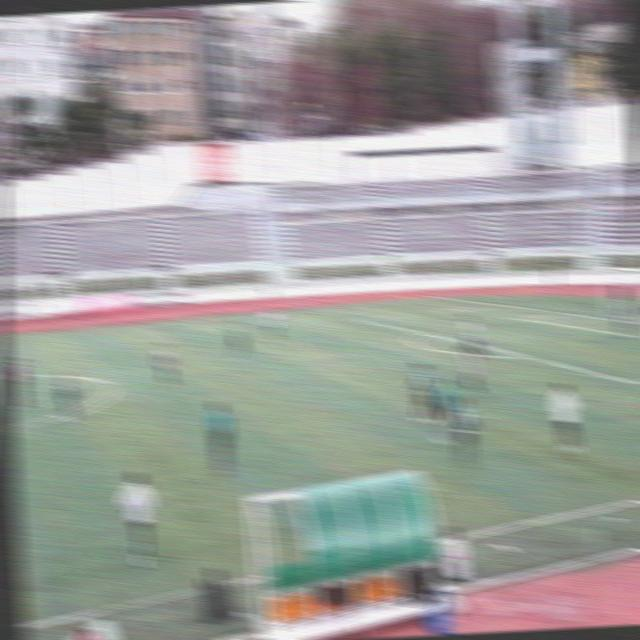bigarea_top_inner: (352, 313, 368, 326)
bigarea_top_outter: (488, 298, 507, 312)
bottom_arc_area_intersection: (513, 346, 533, 366)
corner: (428, 290, 446, 304)
smallarea_top_inner: (516, 312, 533, 326)
smallarea_top_outter: (563, 307, 579, 320)
top_arc_area_intersection: (414, 323, 433, 342)
